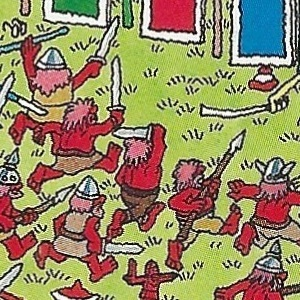Wenda: (142, 124, 158, 176)
